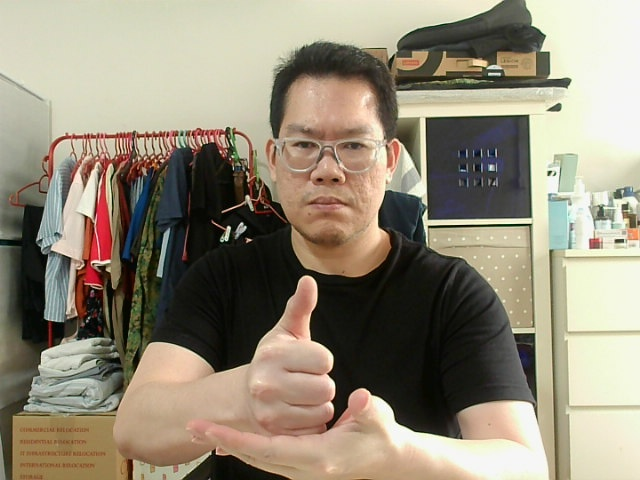help: (243, 279, 326, 432)
